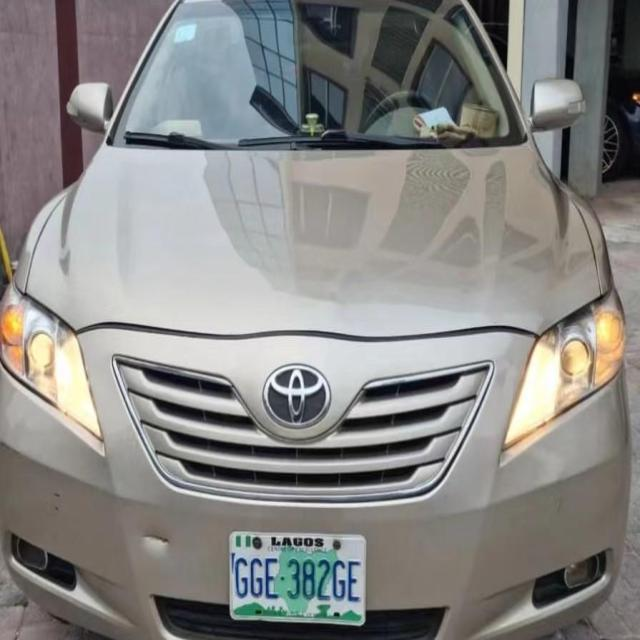Nigerian License Plate - vdataset benjamin-daria: (230, 528, 368, 630)
